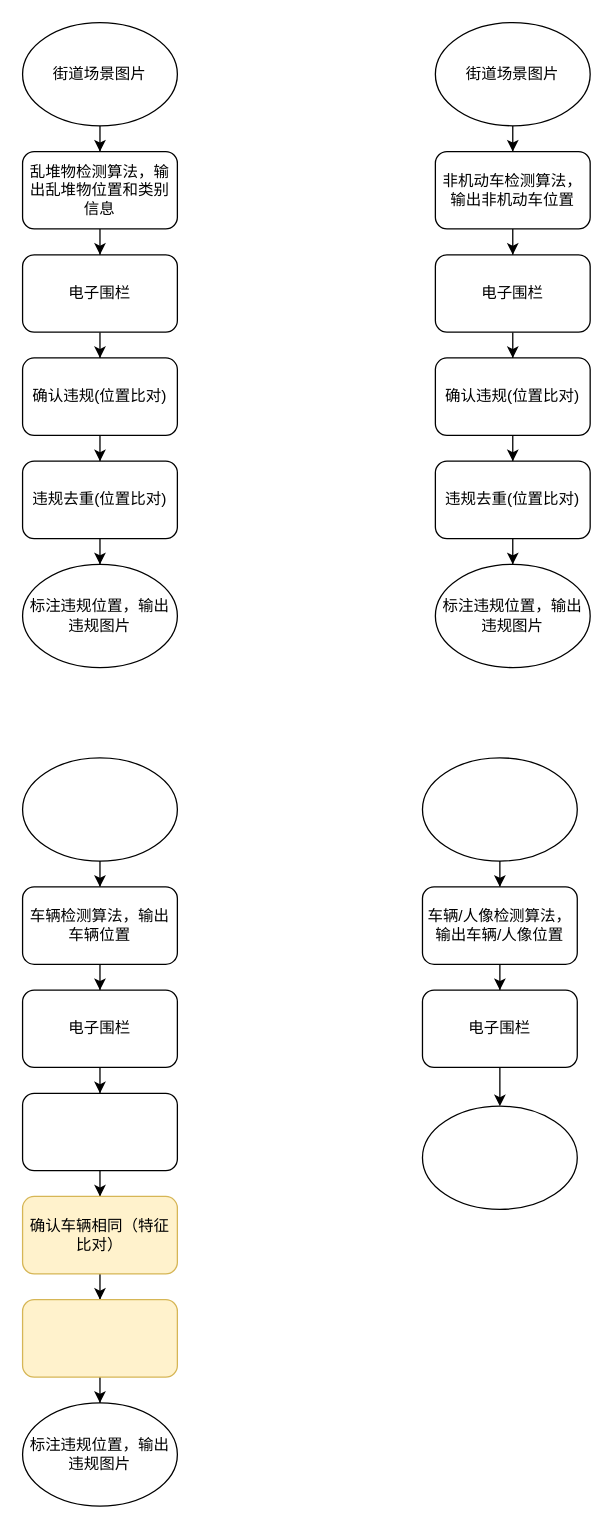
Some shapes in this 613 by 1529 pixel diagram are drawn without their labels. Each missing label, with the centre of its shape:
拆迁场景图片: point 499,809
标注违规位置，输出违规图片。: point 499,1157
确认车辆静止（位置比对）: point 99,1131
街面/道路场景图片: point 99,809
违规去重（特征比对）: point 99,1337
